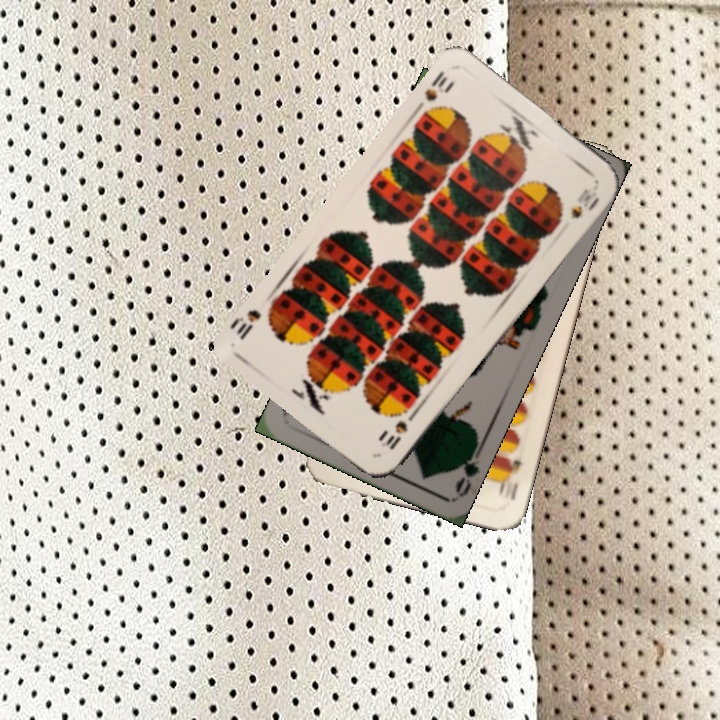E10: (494, 453, 524, 503)
GO: (449, 440, 486, 499)
S10: (376, 407, 419, 453), (420, 66, 458, 104)
